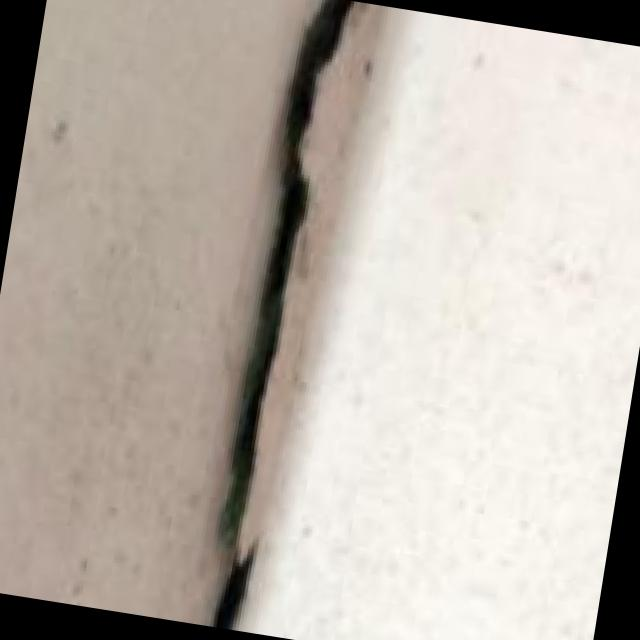crack: (131, 0, 414, 640)
